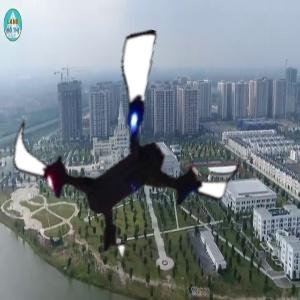drone: (7, 28, 247, 268)
